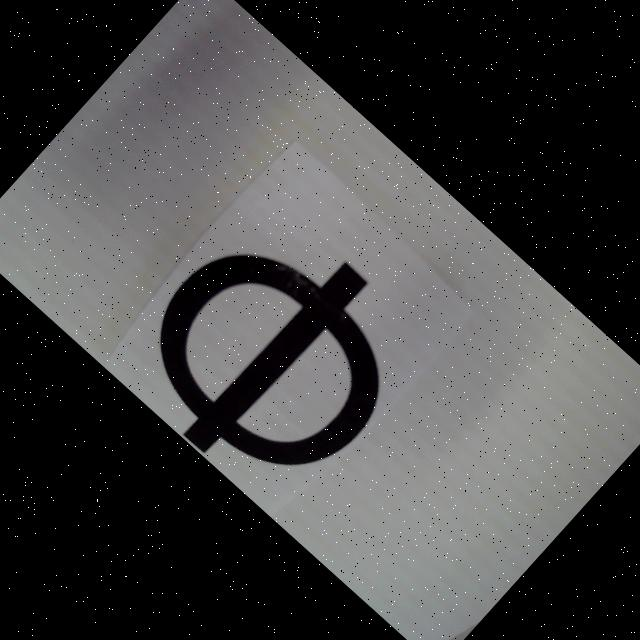PHI: (107, 188, 440, 522)
